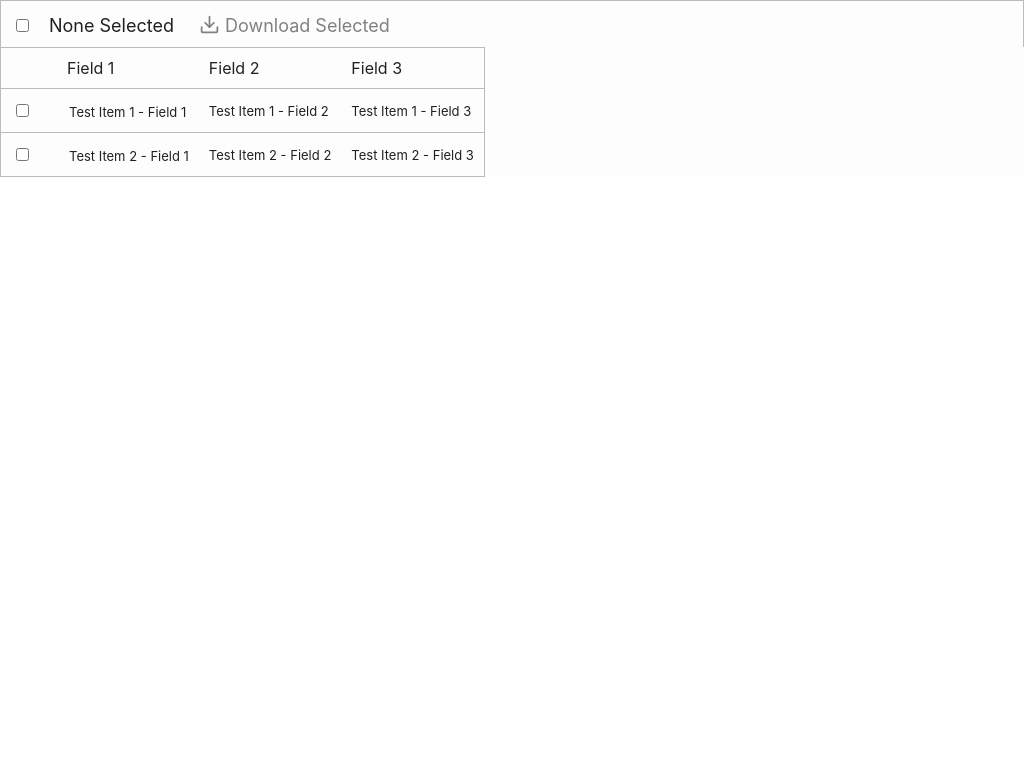
Test: DownloadList › shows the modal when the user clicks the download button
Click the checkbox with class "select-all-checkbox". click: (22, 26)
box: top-left (16, 19), bottom-right (29, 32)
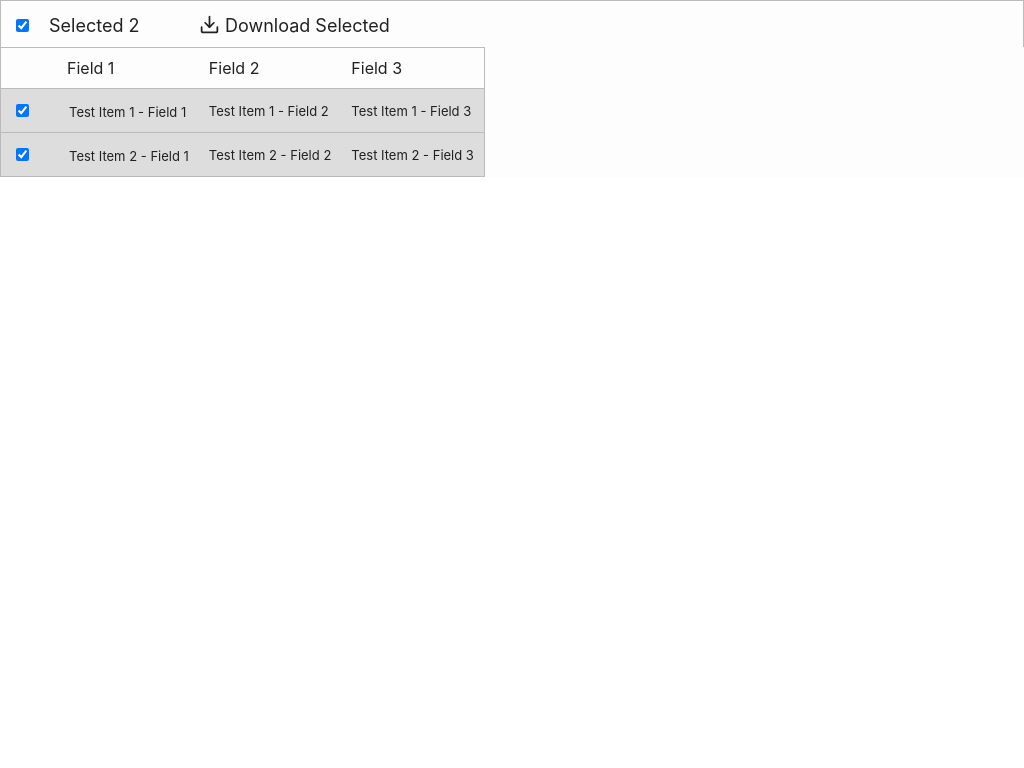
Click the button with class "download-btn". click: (294, 24)
box: top-left (194, 6), bottom-right (395, 41)
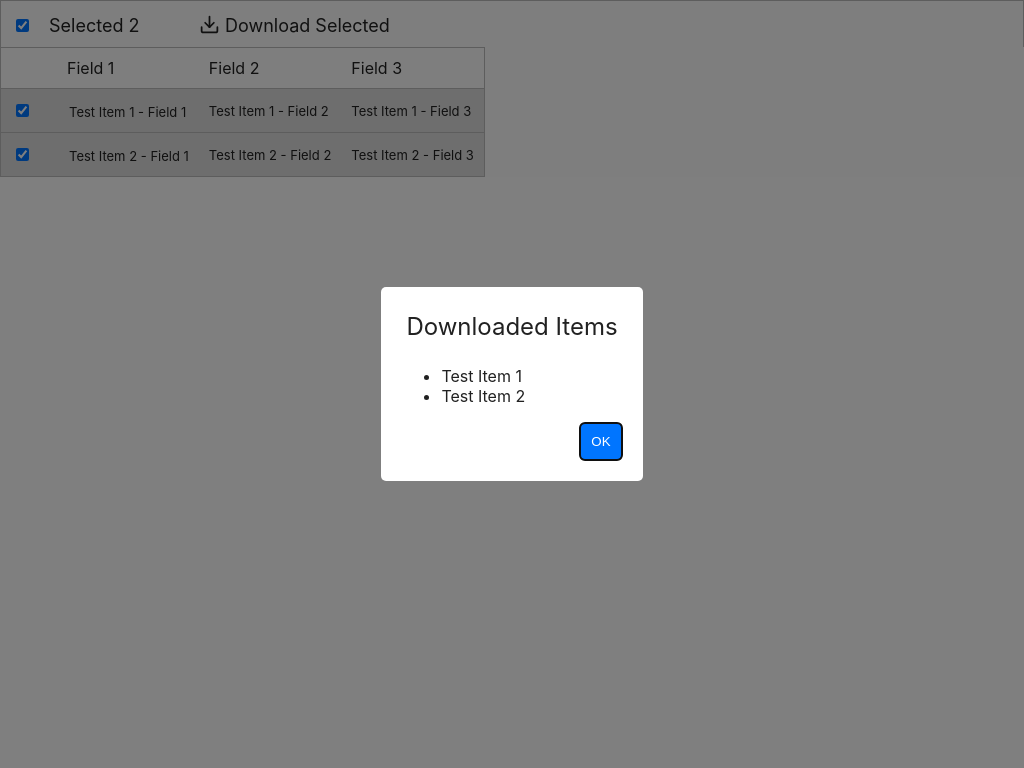
Expected: the heading "Downloaded Items" is shown, top-left (406, 312), bottom-right (618, 341)
